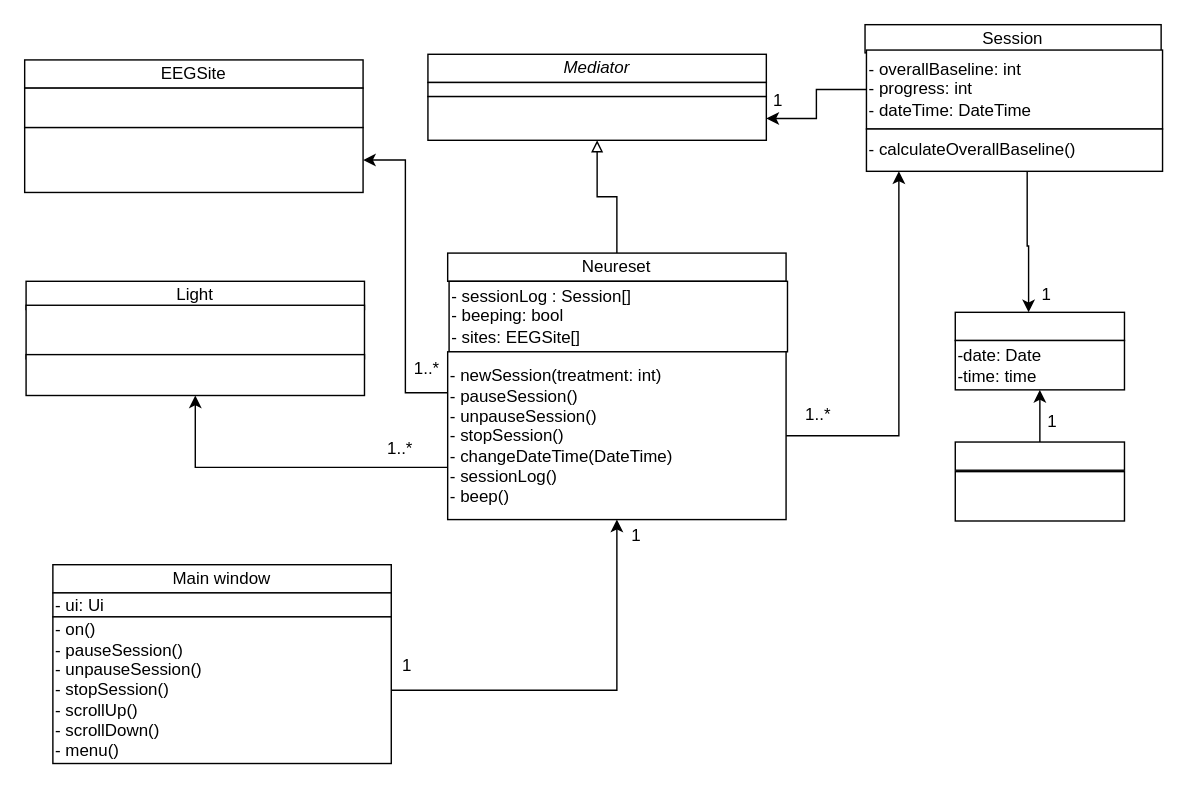
This 1187x788 diagram has some shape labels left out. The shapes that lost their labels are listed below. From the top down, each one's centre as x and y in pixels, then its label:
point (193, 107): - siteBaseline: int
point (193, 159): - calculateSiteBaseline() - applyTreatment()
point (194, 331): - colour: string - Illumination: string
point (1039, 326): DateTime
point (194, 374): - changeLight(lighting: string)
point (1039, 455): Time
point (1039, 495): hour: int minute: int
